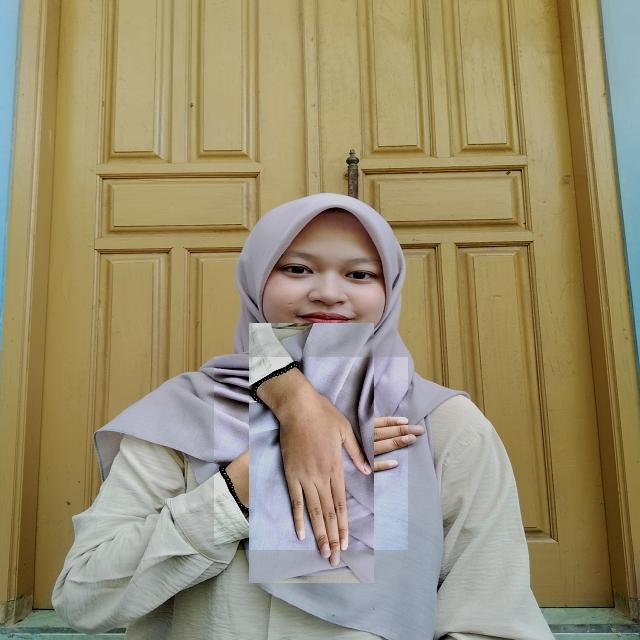tolong: (214, 357, 408, 550)
